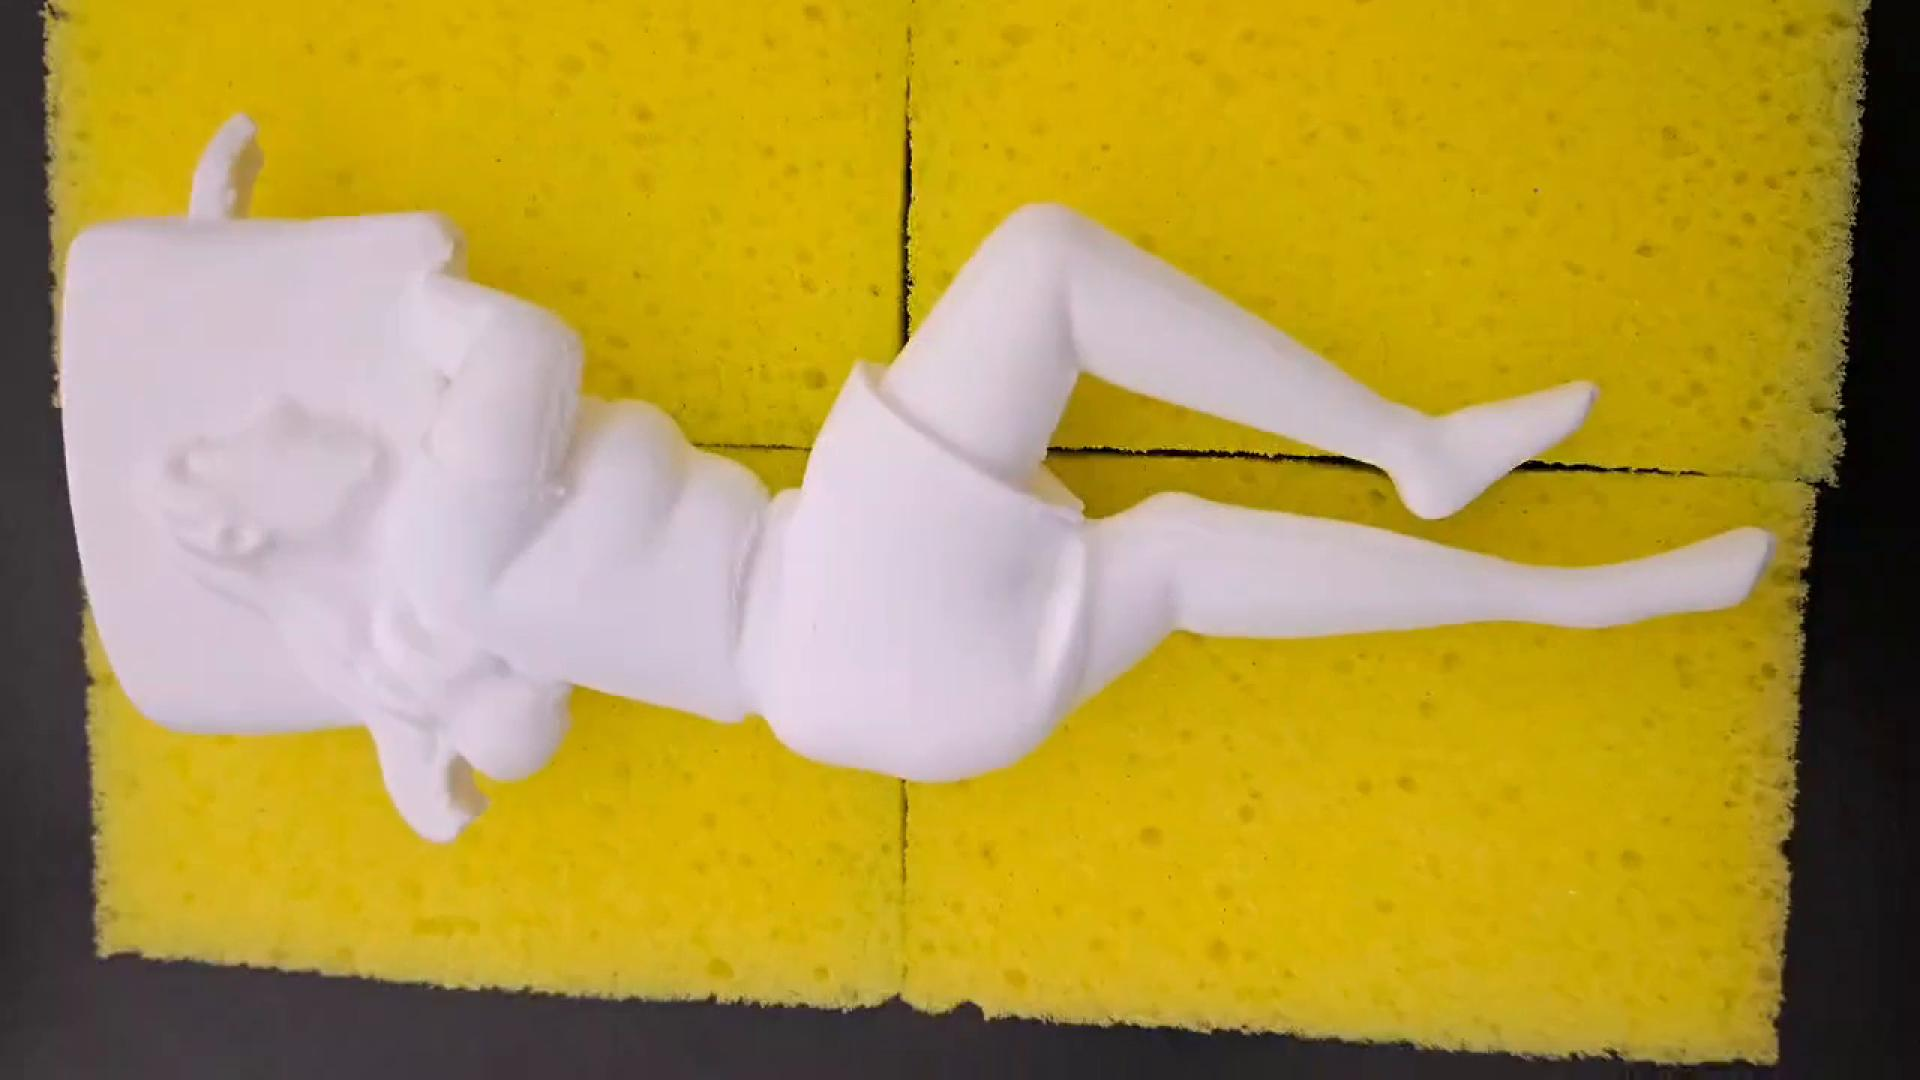Good-style: (30, 124, 1832, 836)
